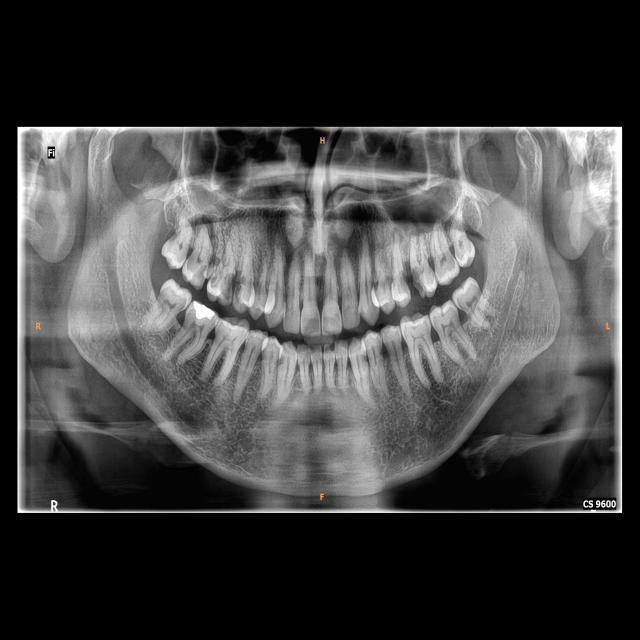dentin-curugu: (220, 264, 254, 306), (405, 266, 429, 298)
dolgu: (187, 298, 217, 332)
kok-enfeksiyonu: (193, 214, 223, 249)
